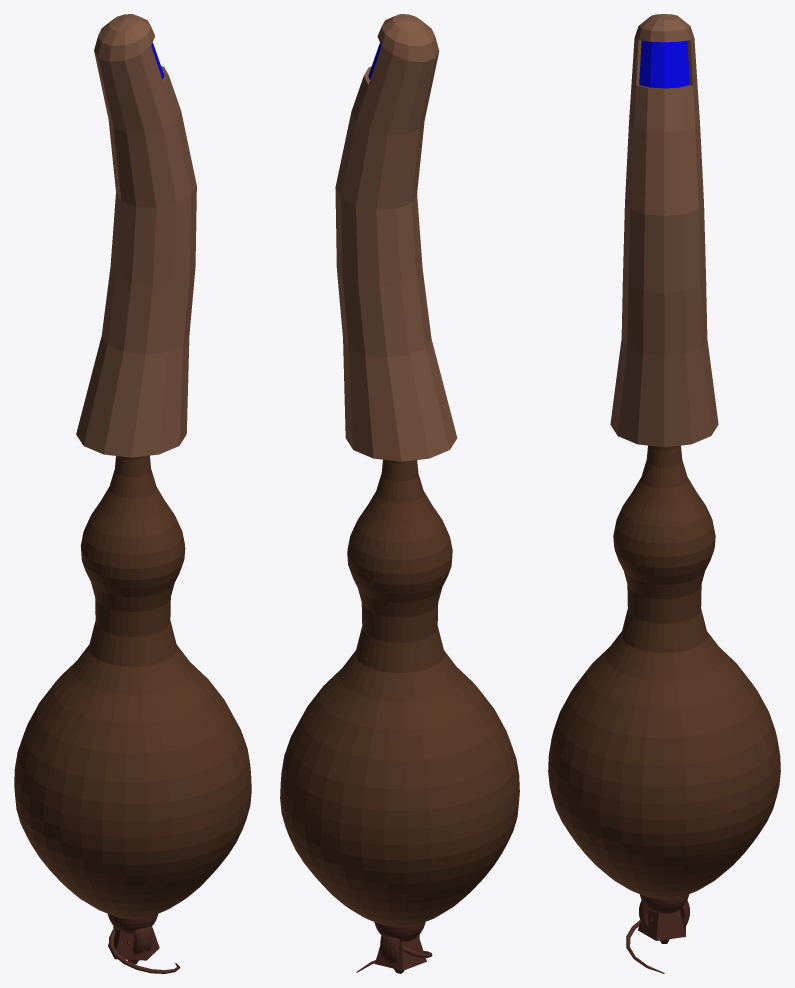
File: Wand 641.glb
The picture shows the model from 3 angles, left to right: view 1: azimuth 30°, elevation 25°; view 2: azimuth 150°, elevation 25°; view 3: azimuth 270°, elevation 25°; orthographic projection. The views are drawn at different scales.
Parts seen in each view (by area): view 1: GeneratedWand, Pommel_9, Pommel_4; view 2: GeneratedWand, Pommel_9, Pommel_4; view 3: GeneratedWand, Pommel_9, Pommel_4.
Boxes of the visible parts, <box> form: GeneratedWand: <box>14,14,251,950</box>; Pommel_9: <box>108,926,159,960</box>; Pommel_4: <box>107,914,158,933</box>; GeneratedWand: <box>280,14,519,956</box>; Pommel_9: <box>375,935,426,970</box>; Pommel_4: <box>374,922,425,941</box>; GeneratedWand: <box>548,14,780,925</box>; Pommel_9: <box>638,909,685,940</box>; Pommel_4: <box>640,894,688,913</box>.
Size of the model in its own units: 0.123 by 0.5454 by 0.123.
